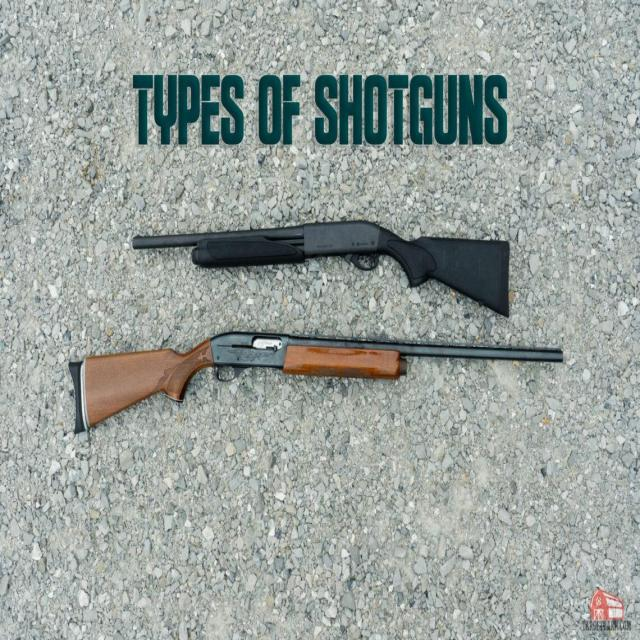weapon: (59, 317, 570, 431), (127, 203, 519, 323)
